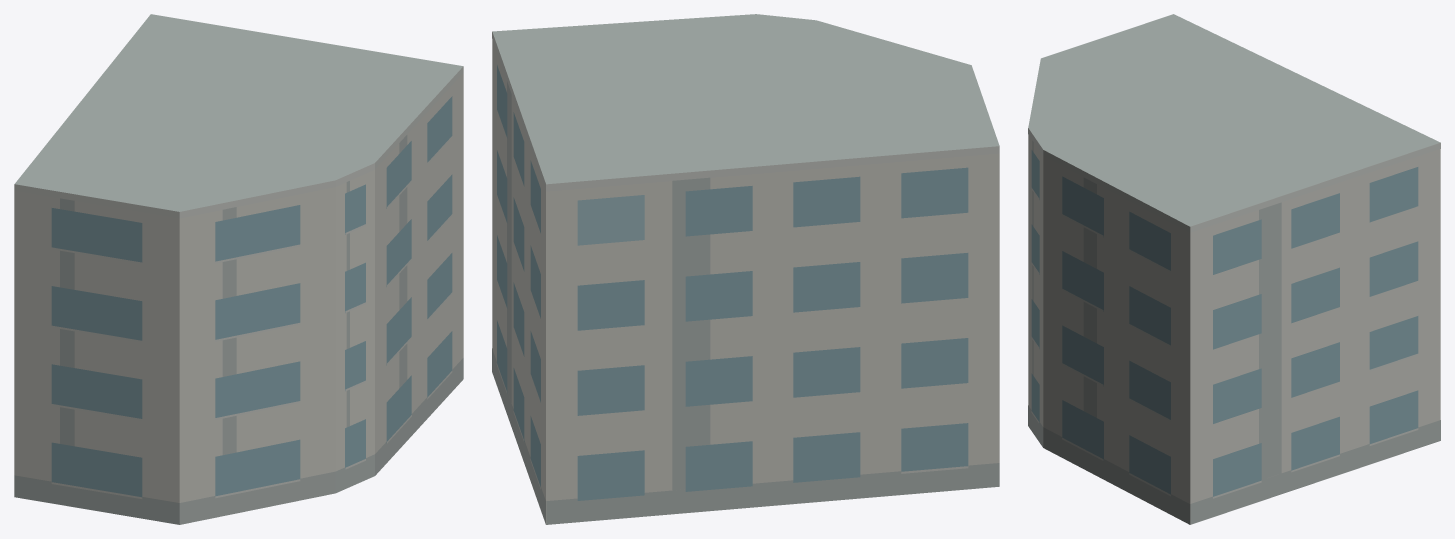
File: residential-1256fd29-513f-4eed-ba82-b0207f25d004.glb
The picture shows the model from 3 angles, left to right: view 1: azimuth 30°, elevation 25°; view 2: azimuth 150°, elevation 25°; view 3: azimuth 270°, elevation 25°; orthographic projection. The views are drawn at different scales.
Visible parts, largest first — view 1: residential-1256fd29-513f-4eed-ba82-b0207f25d004.tmp; view 2: residential-1256fd29-513f-4eed-ba82-b0207f25d004.tmp; view 3: residential-1256fd29-513f-4eed-ba82-b0207f25d004.tmp.
Part boxes in pixels (x1,y1,x2,y2): residential-1256fd29-513f-4eed-ba82-b0207f25d004.tmp: [14, 14, 463, 524]; residential-1256fd29-513f-4eed-ba82-b0207f25d004.tmp: [492, 14, 999, 524]; residential-1256fd29-513f-4eed-ba82-b0207f25d004.tmp: [1028, 14, 1440, 524].
Bounding box in the file's own units: 17.76 × 11.6 × 14.56.
